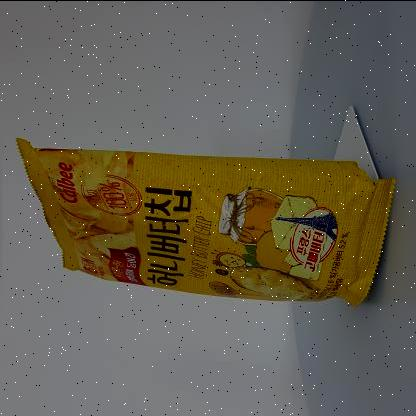Others: (10, 124, 402, 316)
